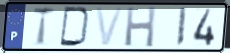4: (191, 7, 217, 48)
D: (58, 5, 92, 48)
H: (123, 5, 158, 49)
I: (174, 7, 189, 49)
T: (32, 6, 57, 47)
V: (94, 6, 126, 47)
